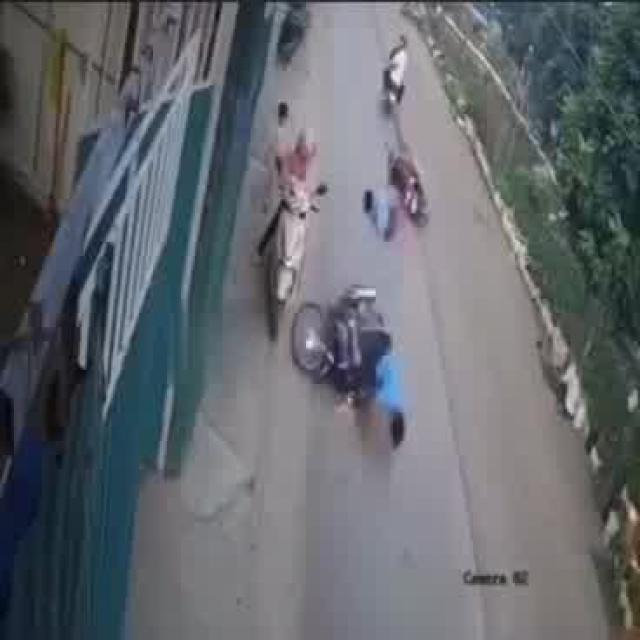multiple_accident: (287, 274, 418, 465), (353, 132, 436, 252)
normal: (369, 16, 426, 130)
